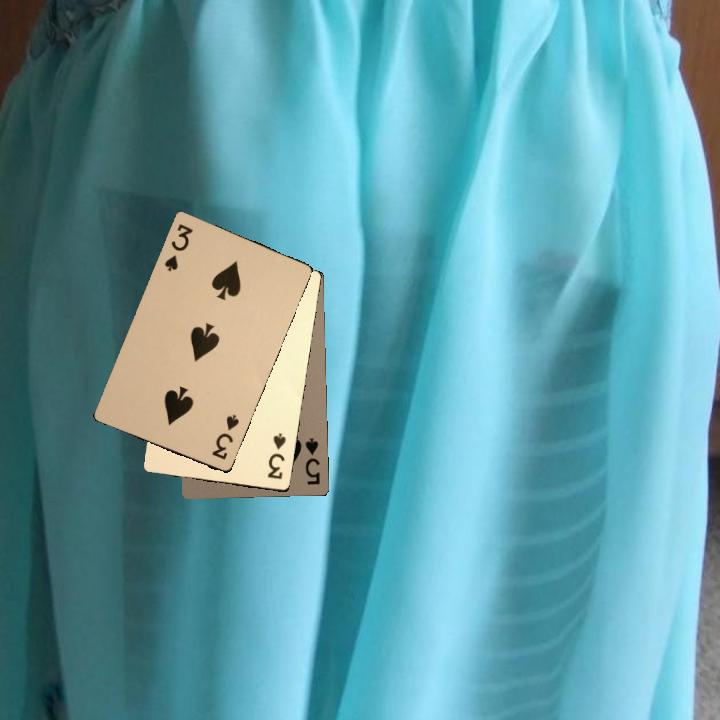3s: (160, 220, 196, 273), (208, 410, 242, 462), (264, 429, 289, 481)
5s: (301, 434, 323, 487)
